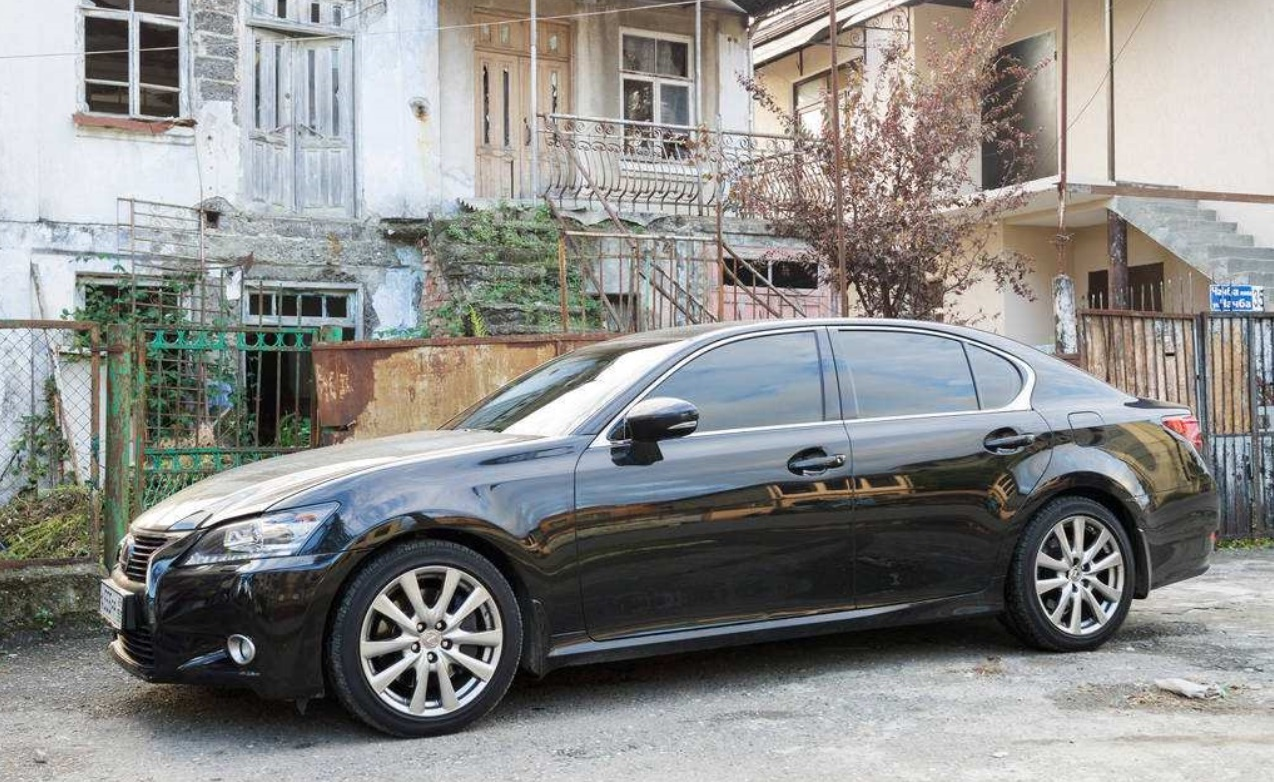family sedan: (95, 301, 1223, 736)
